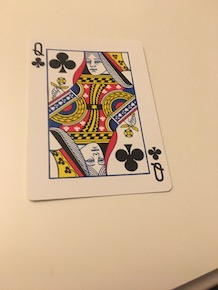QueenOfClubs: (22, 29, 176, 203)
